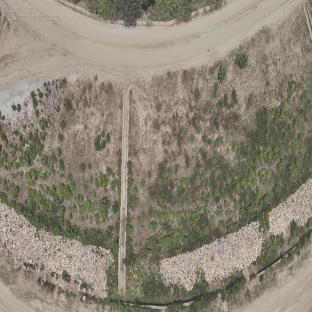rock_toe: (127, 168, 312, 293), (0, 203, 114, 290)
slope_drain: (118, 84, 130, 295)
toe_drain: (34, 215, 312, 309)
